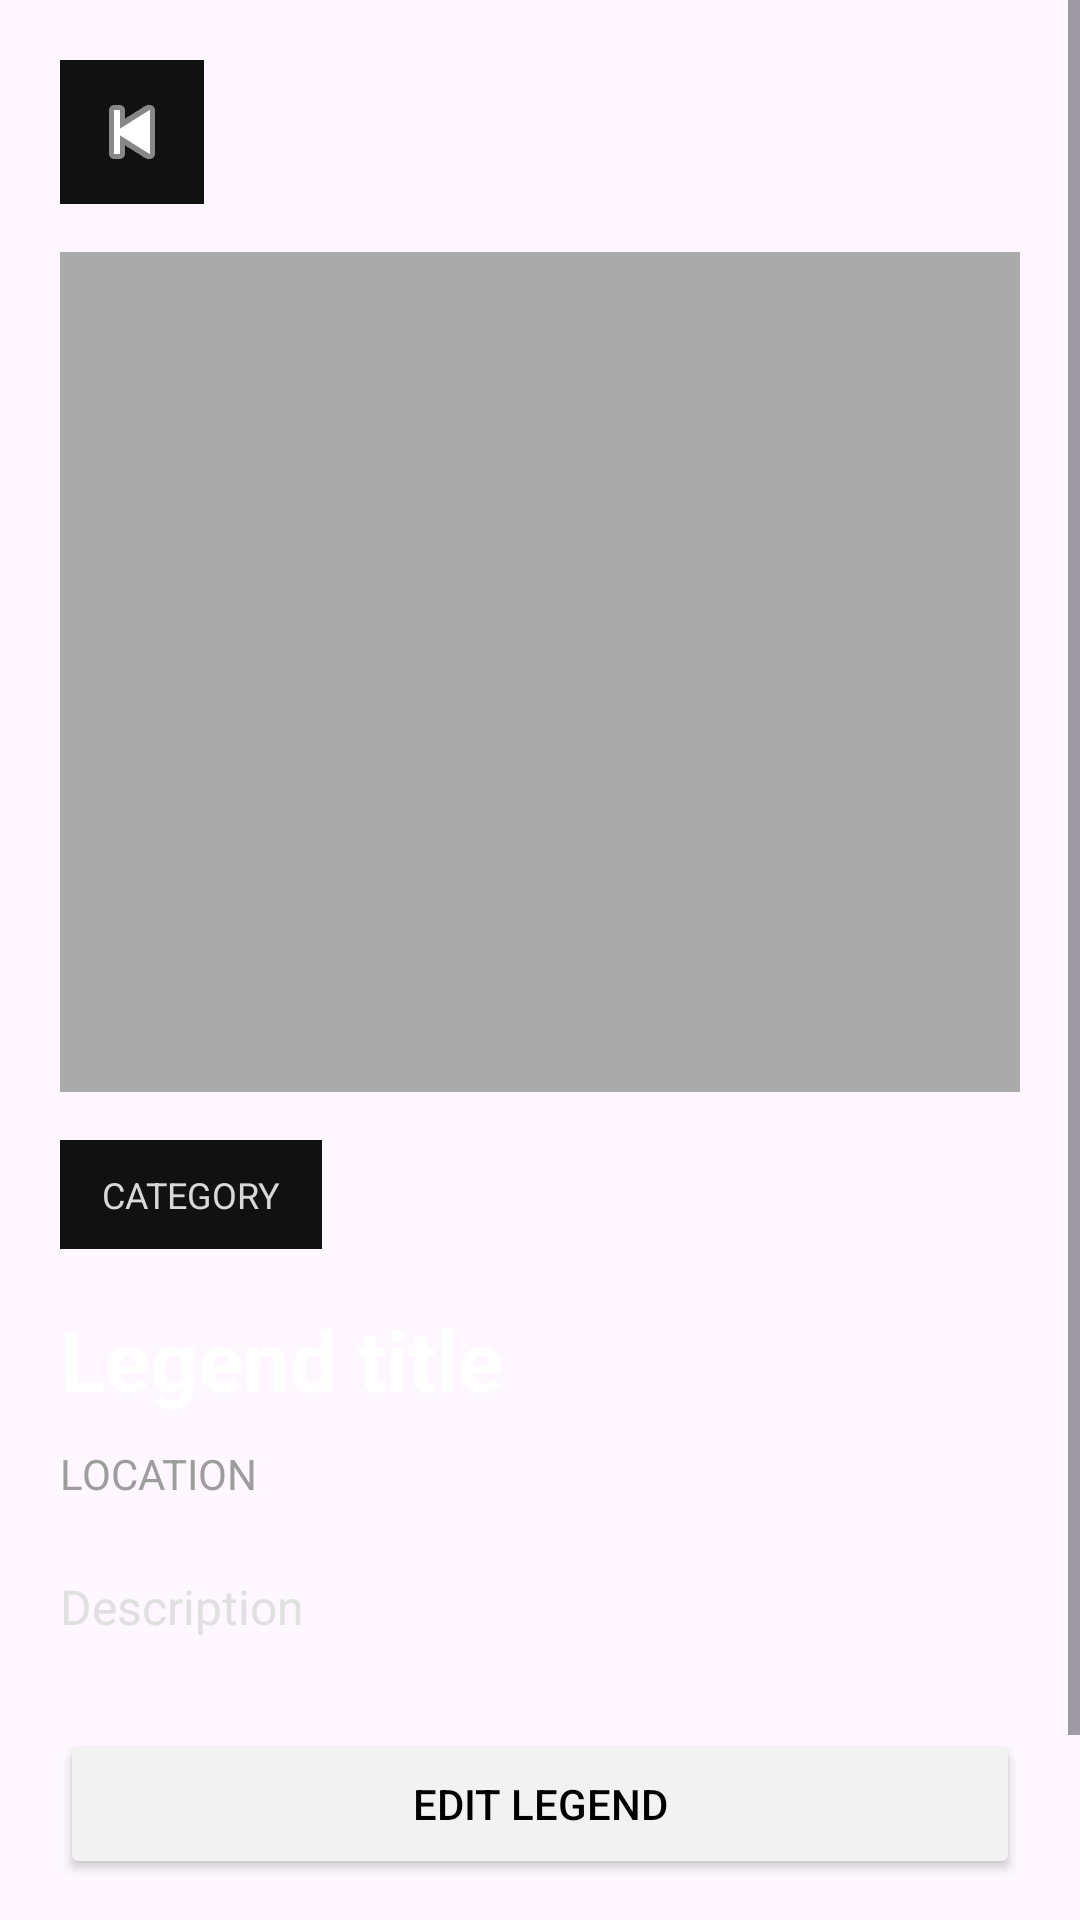

Point at icon controls on the screen. Image size 1080 x 1920, points as (x,y).
Back: (132,132)
